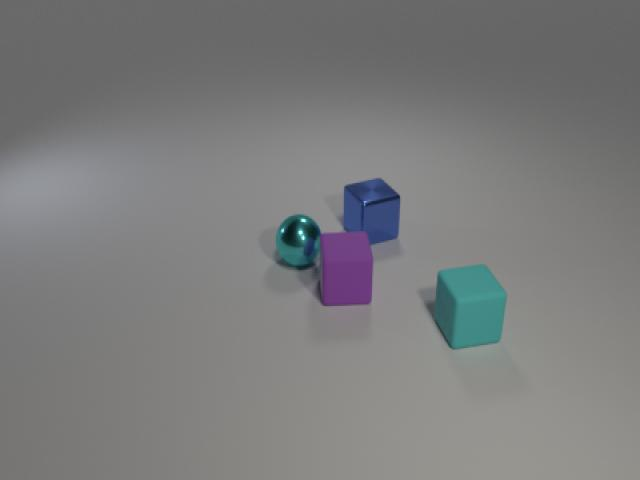round ball: (276, 210, 322, 269)
